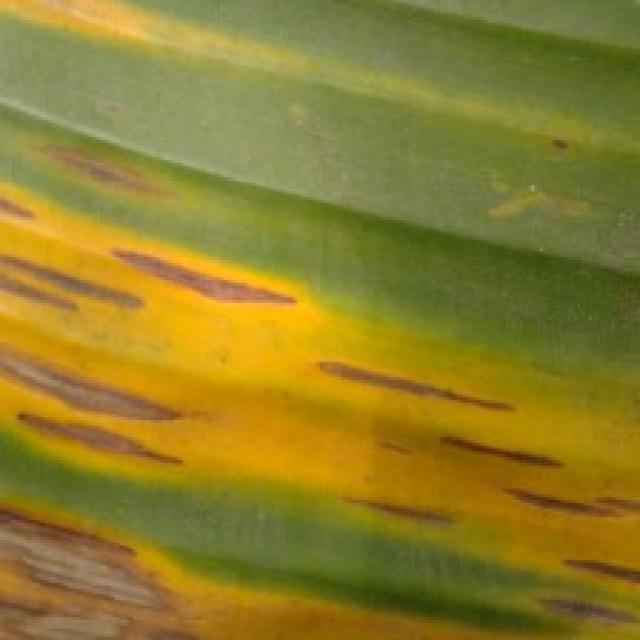Early_leaf_spot: (0, 114, 634, 639), (0, 0, 180, 51)
